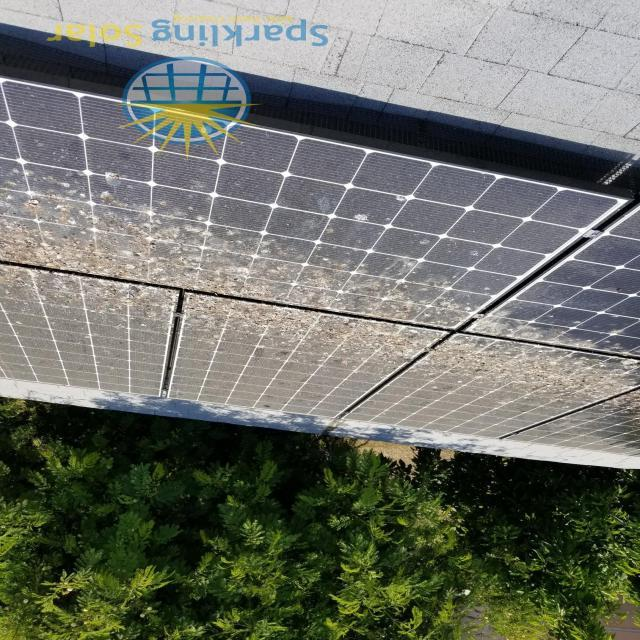soiled: (0, 84, 638, 454)
